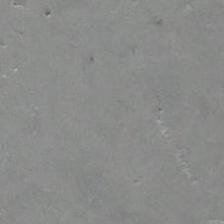Non_Crack: (32, 46, 195, 188)
